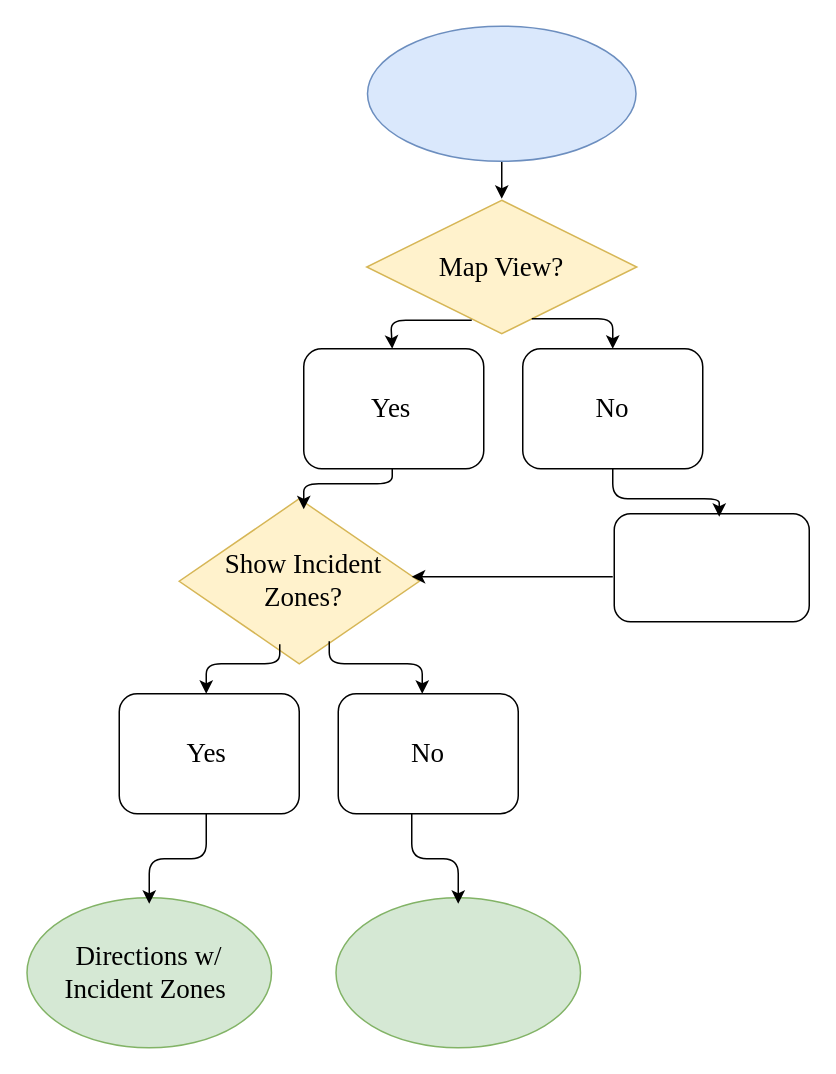
Image size: 836x1074. Some labels were removed from this diagram. Here are the shapes that lost their labels. From the top down, the box of each, then its label:
(366, 25, 636, 161): Travel Route
(613, 512, 809, 622): Directions - List View
(334, 896, 580, 1048): Directions w/o Incident Zones
